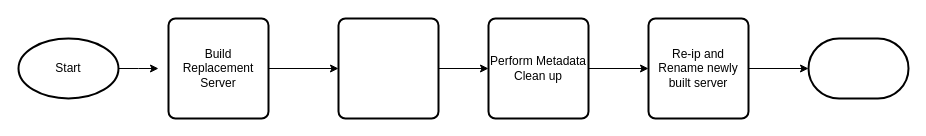
The diagram is 926 pixels wide and 136 high, and some of its shapes have lost their labels. Each missing label, with the centre of its shape:
"Decom Old Server" goes at [388,68].
"End" goes at [858,68].
